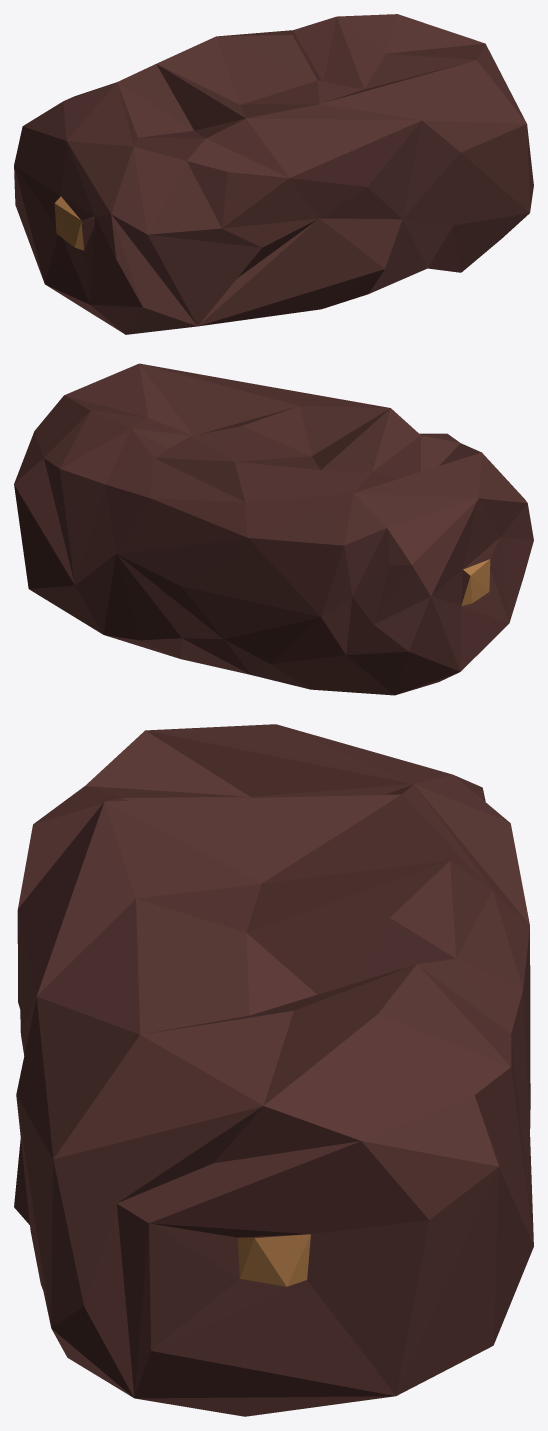
The model's file is dates piece.glb.
3 renders of one model, top to bottom at view 1: azimuth 30°, elevation 25°; view 2: azimuth 150°, elevation 25°; view 3: azimuth 270°, elevation 25°, orthographic. The views are drawn at different scales.
Visible parts, largest first — view 1: Cube.001; view 2: Cube.001; view 3: Cube.001.
Part boxes in pixels (<box>): Cube.001: <box>14,14,533,334</box>; Cube.001: <box>14,363,533,695</box>; Cube.001: <box>14,724,533,1416</box>.
Size of the model in its own units: 0.0414 by 0.0207 by 0.0236.
